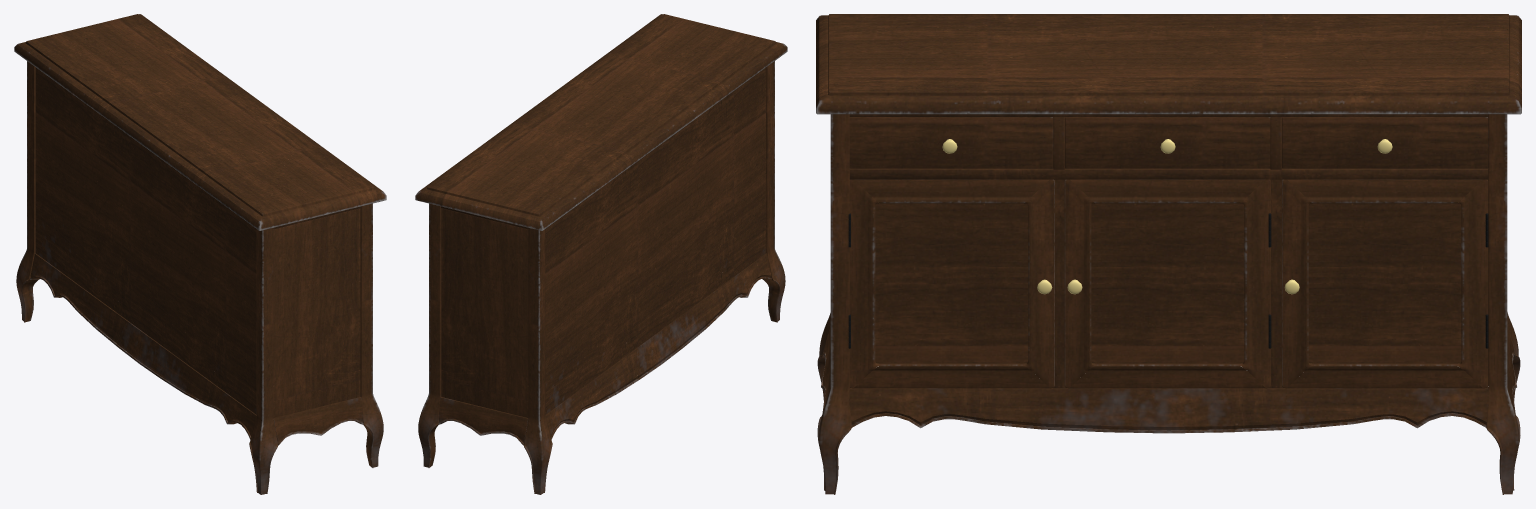
3 views of the same model, side by side, from view 1: azimuth 30°, elevation 25°; view 2: azimuth 150°, elevation 25°; view 3: azimuth 270°, elevation 25° (orthographic). The views are drawn at different scales.
Parts seen in each view (by area): view 1: 对象009; view 2: 对象009; view 3: 对象009, Sphere007, Circle004.
Boxes of the visible parts, x1,y1,x2,y2 form: 对象009: (14, 14, 386, 494); 对象009: (415, 14, 787, 494); 对象009: (816, 14, 1521, 494); Sphere007: (942, 139, 1392, 294); Circle004: (848, 213, 1488, 348).
Bounding box in the file's own units: 450 × 940 × 1500.
Materials: 3 (3 with a texture image).
